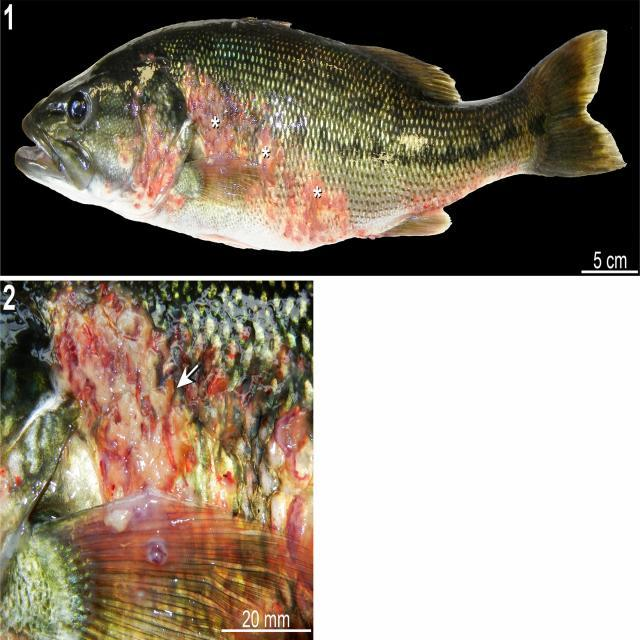EUS Disease: (17, 16, 630, 255), (0, 287, 310, 639), (80, 46, 543, 252)
